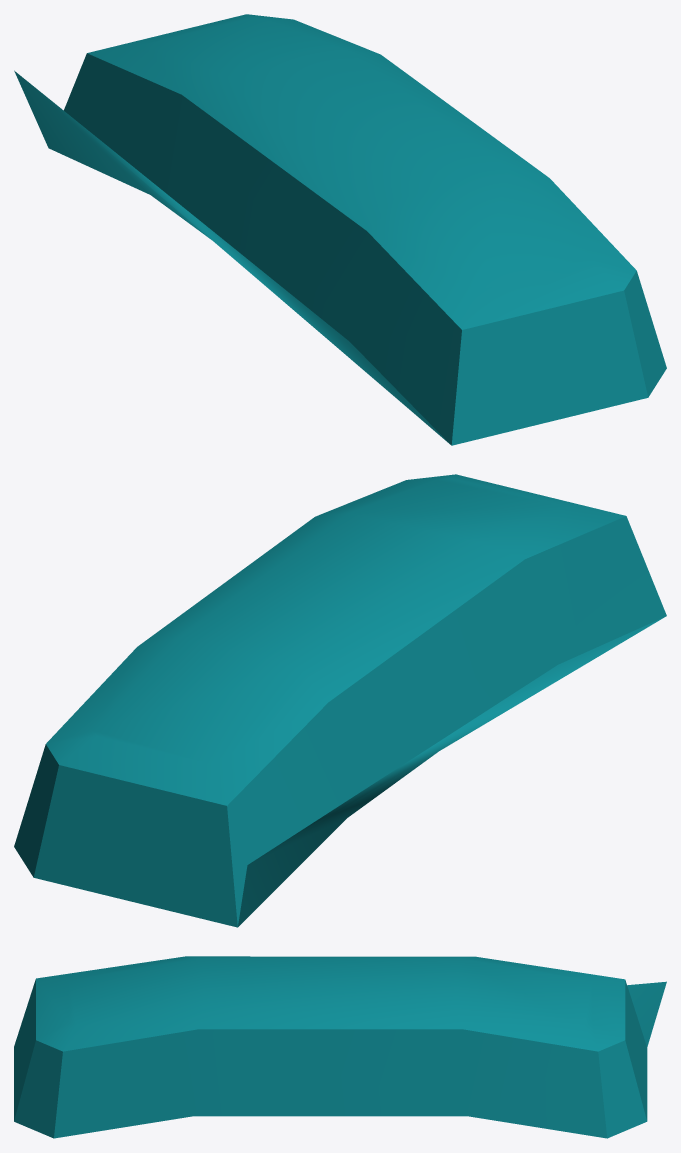
The model's file is telefono.obj.
The picture shows the model from 3 angles, top to bottom: view 1: azimuth 30°, elevation 25°; view 2: azimuth 150°, elevation 25°; view 3: azimuth 270°, elevation 25°; orthographic projection. The views are drawn at different scales.
Parts seen in each view (by area): view 1: Telefon.001_Malla.002; view 2: Telefon.001_Malla.002; view 3: Telefon.001_Malla.002.
Part boxes in pixels (x1,y1,x2,y2): Telefon.001_Malla.002: [14, 14, 666, 445]; Telefon.001_Malla.002: [14, 474, 666, 927]; Telefon.001_Malla.002: [14, 956, 666, 1138].
Size of the model in its own units: 0.0528 by 0.0278 by 0.1471.
Materials: 1 (1 with a texture image).
